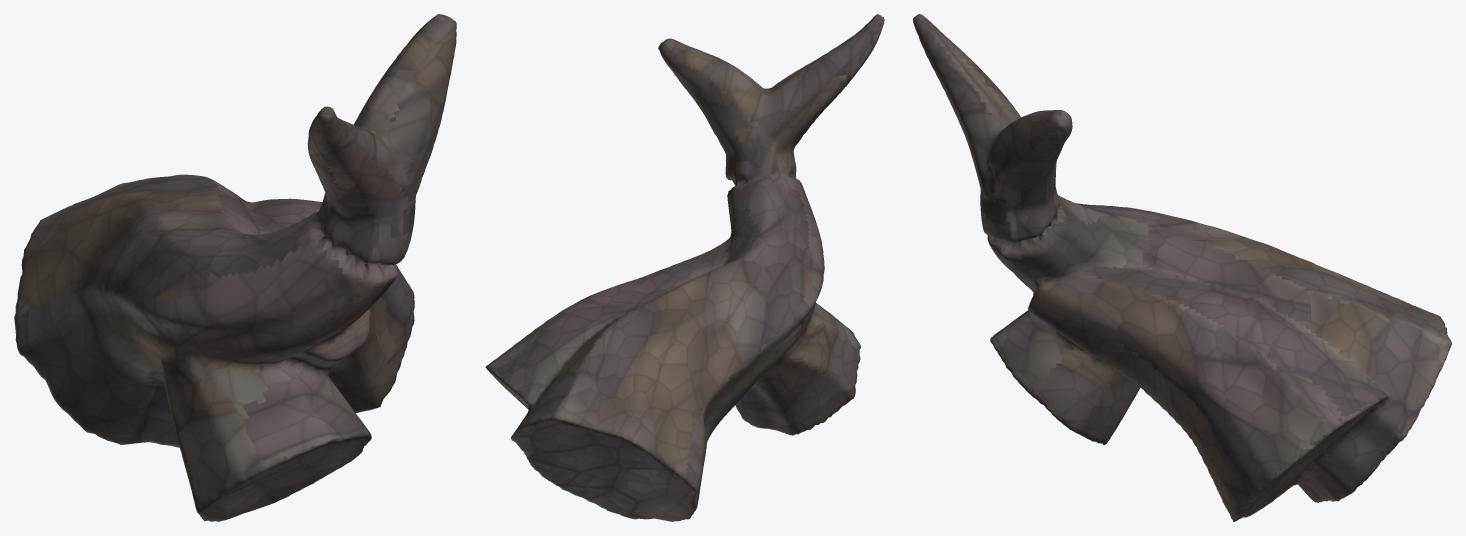
The model's file is f14-old-root-support-v1.glb.
3 views of the same model, side by side, from view 1: azimuth 30°, elevation 25°; view 2: azimuth 150°, elevation 25°; view 3: azimuth 270°, elevation 25° (orthographic). The views are drawn at different scales.
Parts seen in each view (by area): view 1: F14_OldRootSupport_LOD0; view 2: F14_OldRootSupport_LOD0; view 3: F14_OldRootSupport_LOD0.
Part boxes in pixels (<box>): F14_OldRootSupport_LOD0: <box>14,14,456,521</box>; F14_OldRootSupport_LOD0: <box>485,14,884,521</box>; F14_OldRootSupport_LOD0: <box>913,14,1451,521</box>.
Bounding box in the file's own units: 1.43 × 2.1 × 2.32.
Materials: 1 (1 with a texture image).
